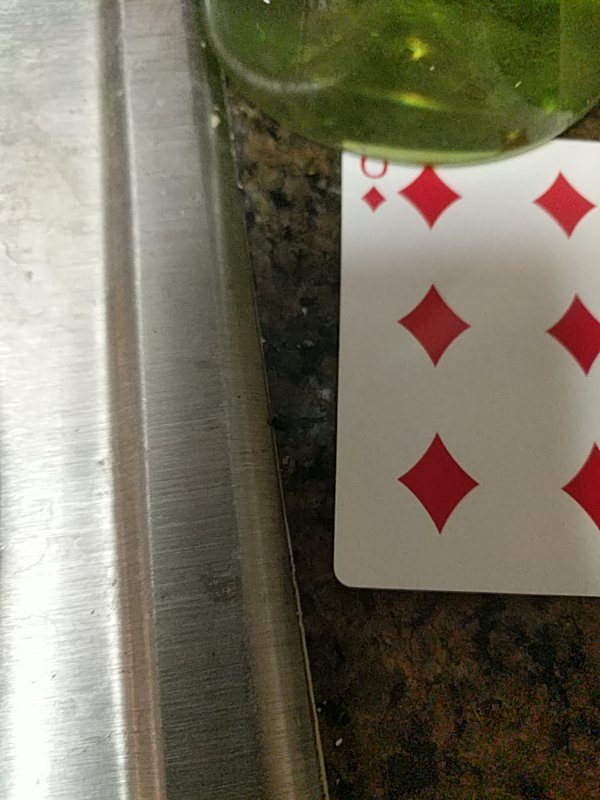Diamonds: (341, 137, 600, 599)
